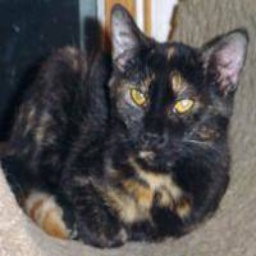cat: (3, 10, 239, 244)
